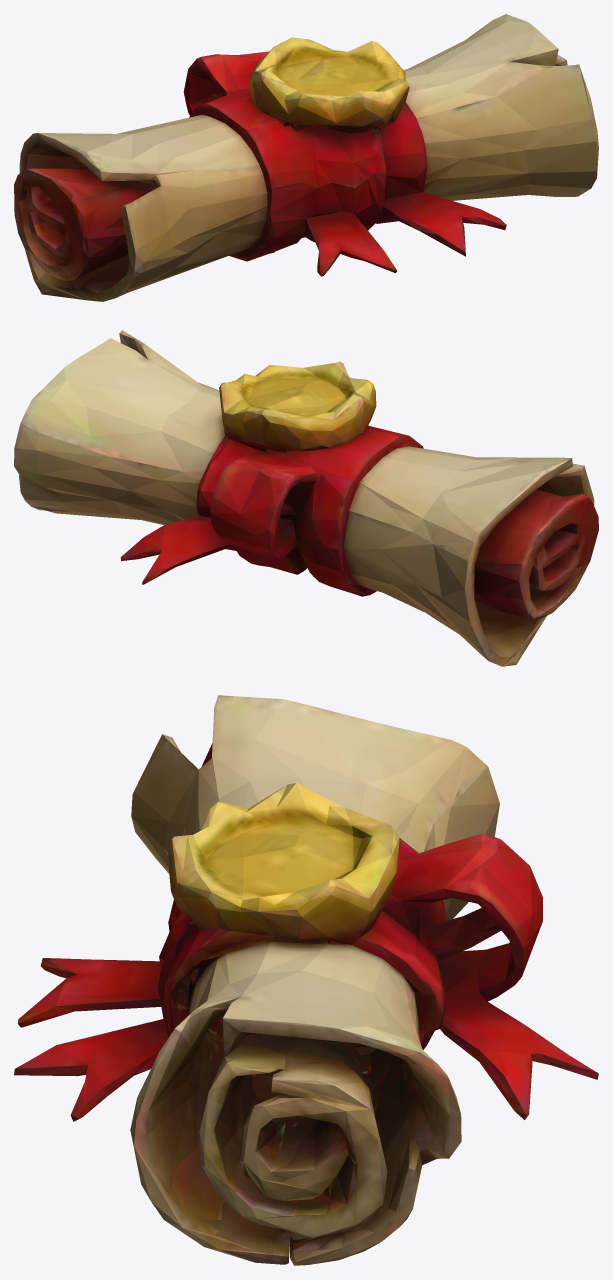
Rendered from scroll.glb.
The picture shows the model from 3 angles, top to bottom: view 1: azimuth 30°, elevation 25°; view 2: azimuth 150°, elevation 25°; view 3: azimuth 270°, elevation 25°; orthographic projection. The views are drawn at different scales.
Visible parts, largest first — view 1: geometry_0; view 2: geometry_0; view 3: geometry_0.
Part boxes in pixels (x1,y1,x2,y2): geometry_0: [14, 14, 598, 301]; geometry_0: [14, 330, 598, 666]; geometry_0: [14, 695, 598, 1265].
Bounding box in the file's own units: 0.32 × 0.12 × 0.212.
1 material, 1 textured.
